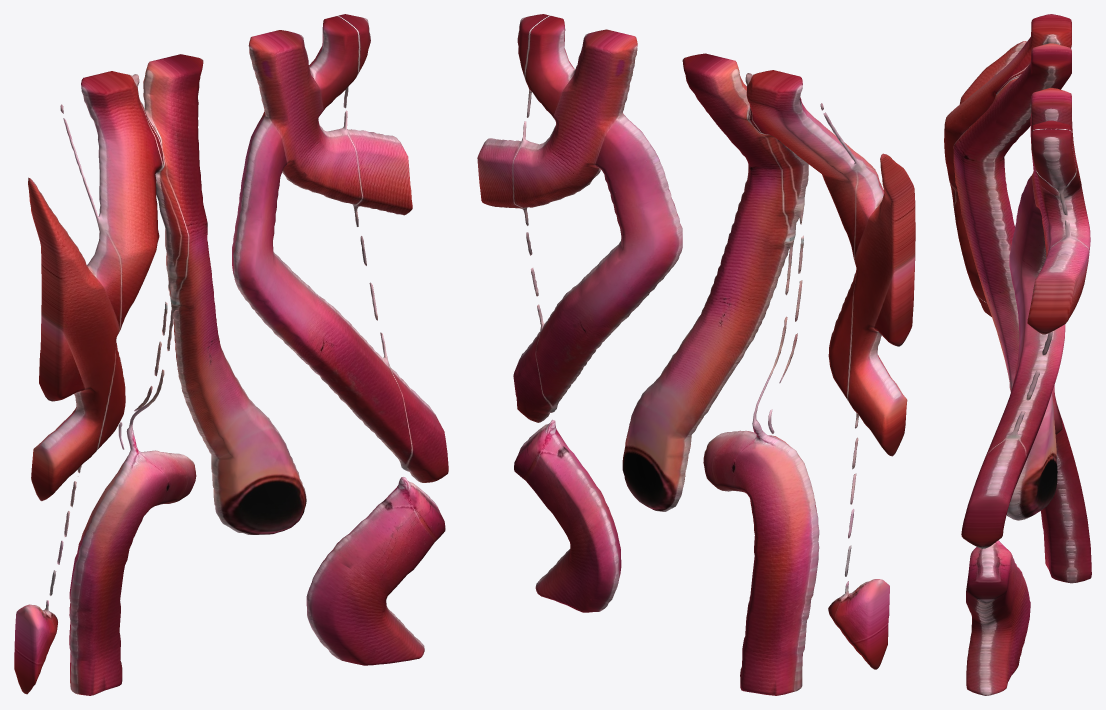
The model's file is hy3d-mov-006.glb.
The picture shows the model from 3 angles, left to right: view 1: azimuth 30°, elevation 25°; view 2: azimuth 150°, elevation 25°; view 3: azimuth 270°, elevation 25°; orthographic projection. The views are drawn at different scales.
Parts seen in each view (by area): view 1: world; view 2: world; view 3: world.
Part boxes in pixels (x1=…): world: x1=14, y1=14, x2=448, y2=695; world: x1=477, y1=14, x2=915, y2=695; world: x1=944, y1=14, x2=1091, y2=695.
Bounding box in the file's own units: 1.59 × 2.39 × 0.5811.
1 material, 1 textured.
